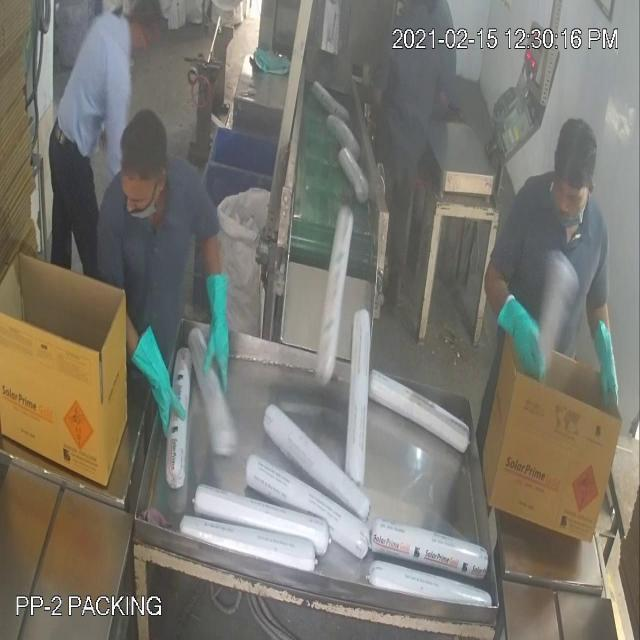Gloves: (29, 112, 608, 384)
